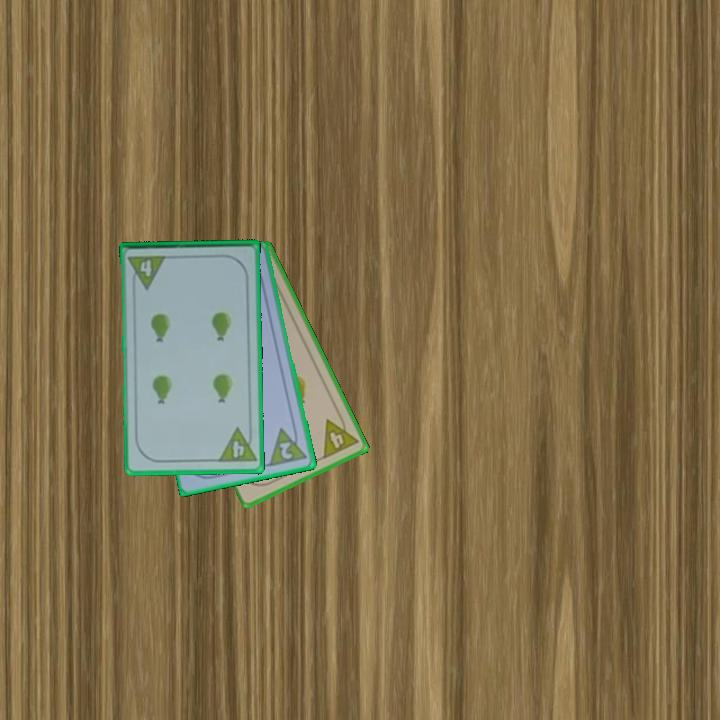2p: (266, 422, 310, 470)
4p: (320, 410, 361, 462), (215, 424, 259, 465), (125, 252, 169, 292)
